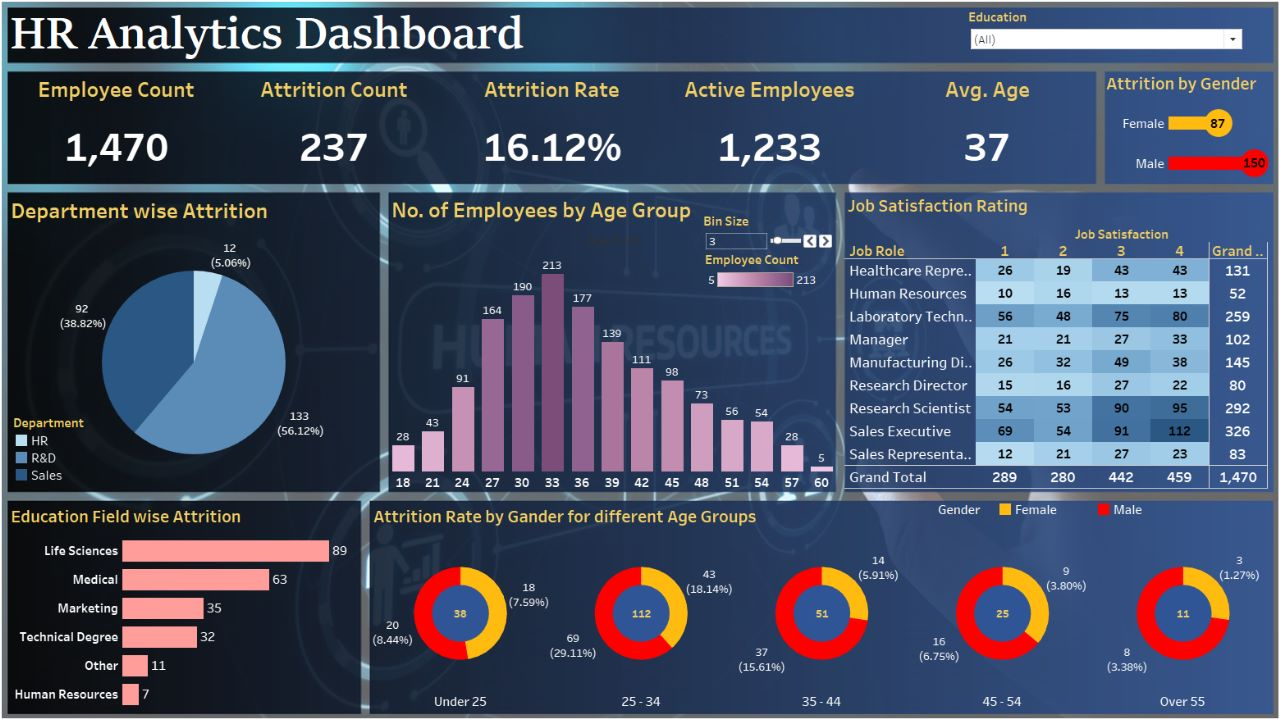

Layout of this report page (visuals, bound fields, positions):
{"tool":"tableau","page":{"name":"HR Analytics Dashboard","canvas":[1580,900],"ordinal":0},"visuals":[{"type":"image","param":"C:/Users/Sudhanshu Kumar/Desktop/HR background.png","box":[8,8,1564,884]},{"type":"text","box":[19,20,1092,67]},{"type":"filter","title":"Department wise Attrition","param":"[federated.046n5xd0ufq4gq1g2a3cc1grrpnh].[none:Education:nk]","box":[1190,20,337,166]},{"type":"worksheet","title":"Attrition by Gender","mark":"Automatic","rows":["Gender"],"cols":["Calculation_1910370702798176256","Calculation_1910370702798176256"],"box":[1354,93,208,140]},{"type":"worksheet","title":"KPI","mark":"Automatic","box":[19,96,1327,137]},{"type":"worksheet","title":"Job Satisfaction Rating","mark":"Square","rows":["Job Role"],"cols":["Job Satisfaction"],"box":[1039,242,524,368]},{"type":"worksheet","title":"No. of Employees by Age Group","mark":"Automatic","rows":["Employee Count"],"cols":["Age (bin)"],"box":[483,244,547,366]},{"type":"worksheet","title":"Department wise Attrition","mark":"Pie","box":[19,245,454,365]},{"type":"parameter","param":"[Parameters].[Parameter 1]","box":[869,245,160,56]},{"type":"legend","title":"No. of Employees by Age Group","param":"[federated.046n5xd0ufq4gq1g2a3cc1grrpnh].[sum:Employee Count:qk]","box":[887,303,140,53]},{"type":"legend","title":"Department wise Attrition","param":"[federated.046n5xd0ufq4gq1g2a3cc1grrpnh].[none:Department:nk]","box":[26,515,140,85]},{"type":"worksheet","title":"Education Field wise Attrition","mark":"Automatic","rows":["Education Field"],"cols":["Calculation_1910370702798176256"],"box":[19,621,432,258]},{"type":"worksheet","title":"Attrition Rate by Gander for different Age Groups","mark":"Pie","rows":["Calculation_1910370703136768004","Calculation_1910370703136768004"],"cols":["CF_age band"],"box":[461,621,1101,256]},{"type":"legend","title":"Attrition Rate by Gander for different Age Groups","param":"[federated.046n5xd0ufq4gq1g2a3cc1grrpnh].[none:Gender:nk]","box":[1153,621,407,42]}]}

Visuals, with their boxes in screenshot pixels (x1, y1, x2, y2), scaled from the page's 1580x900 canvas onto the 1280x719 screenshot:
image: <box>6,6,1274,713</box>
text: <box>15,16,900,70</box>
"Department wise Attrition" filter: <box>964,16,1237,149</box>
"Attrition by Gender" worksheet: <box>1097,74,1265,186</box>
"KPI" worksheet: <box>15,77,1090,186</box>
"Job Satisfaction Rating" worksheet (Square marks): <box>842,193,1266,487</box>
"No. of Employees by Age Group" worksheet: <box>391,195,834,487</box>
"Department wise Attrition" worksheet (Pie marks): <box>15,196,383,487</box>
parameter: <box>704,196,834,240</box>
"No. of Employees by Age Group" legend: <box>719,242,832,284</box>
"Department wise Attrition" legend: <box>21,411,134,479</box>
"Education Field wise Attrition" worksheet: <box>15,496,365,702</box>
"Attrition Rate by Gander for different Age Groups" worksheet (Pie marks): <box>373,496,1265,701</box>
"Attrition Rate by Gander for different Age Groups" legend: <box>934,496,1264,530</box>
